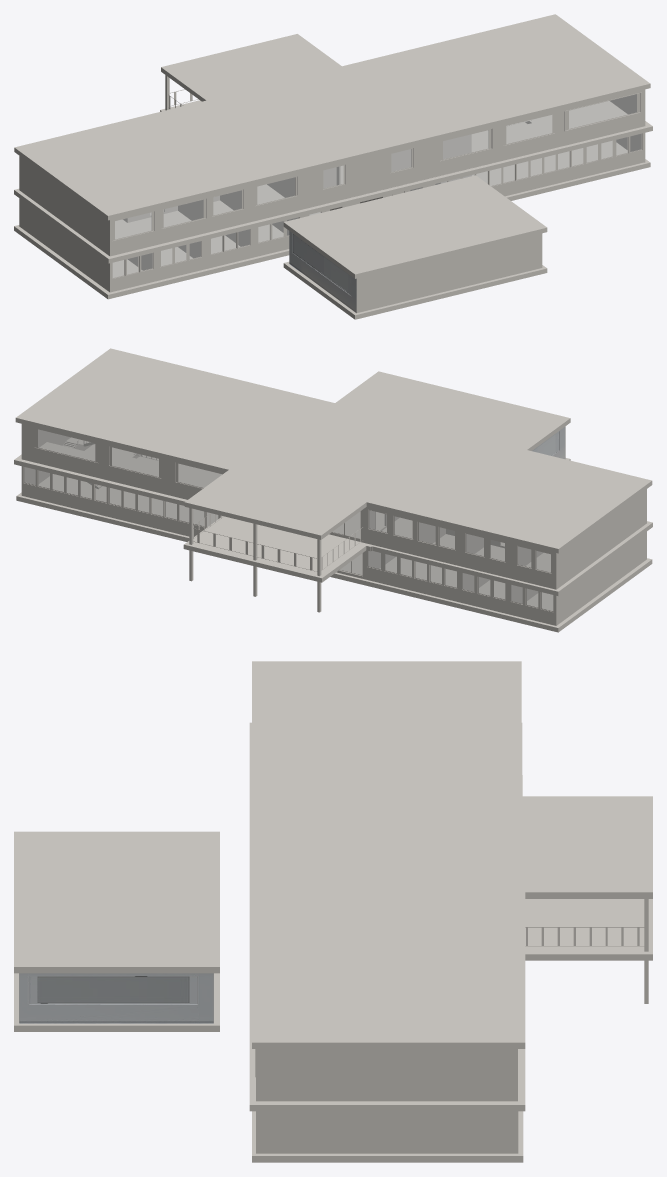
The model's file is auditorium_walk.glb.
3 renders of one model, top to bottom at view 1: azimuth 30°, elevation 25°; view 2: azimuth 150°, elevation 25°; view 3: azimuth 270°, elevation 25°, orthographic. The views are drawn at different scales.
Visible parts, largest first — view 1: BEYOND_L2_SLAB, BEYOND_L1_WALL, BEYOND_L0_WALL, UPPER_in_zone, BEYOND_L1_SLAB, BEYOND_L0_SLAB, BEYOND_L1_GLASS, BEYOND_L0_GLASS, BEYOND_L1_FRAME, BEYOND_L0_FRAME, BEYOND_L1_OTHER, BAKE_furn_b (+2 smaller); view 2: BEYOND_L2_SLAB, BEYOND_L1_WALL, BEYOND_L1_SLAB, BEYOND_L0_WALL, BEYOND_L0_SLAB, UPPER_in_zone, BEYOND_L1_GLASS, BEYOND_L0_GLASS, BEYOND_L1_FRAME, BEYOND_L0_FRAME, BEYOND_L1_OTHER, BEYOND_L1_STAIR (+3 smaller); view 3: BEYOND_L2_SLAB, UPPER_in_zone, BEYOND_L1_WALL, BEYOND_L1_SLAB, BEYOND_L0_WALL, BEYOND_L0_SLAB, BAKE_furn_b, GLASS_zone, BAKE_wall_north, BAKE_wall_south.
Part boxes in pixels (x1=…): BEYOND_L2_SLAB: x1=14, y1=14, x2=650, y2=278; BEYOND_L1_WALL: x1=19, y1=89, x2=645, y2=256; BEYOND_L0_WALL: x1=19, y1=133, x2=645, y2=312; UPPER_in_zone: x1=289, y1=177, x2=541, y2=272; BEYOND_L1_SLAB: x1=14, y1=100, x2=652, y2=263; BEYOND_L0_SLAB: x1=14, y1=122, x2=650, y2=319; BEYOND_L1_GLASS: x1=115, y1=94, x2=636, y2=238; BEYOND_L0_GLASS: x1=113, y1=134, x2=641, y2=277; BEYOND_L1_FRAME: x1=113, y1=93, x2=640, y2=240; BEYOND_L0_FRAME: x1=112, y1=134, x2=642, y2=278; BEYOND_L1_OTHER: x1=112, y1=89, x2=641, y2=240; BAKE_furn_b: x1=293, y1=234, x2=348, y2=291; BEYOND_L2_SLAB: x1=15, y1=348, x2=652, y2=553; BEYOND_L1_WALL: x1=21, y1=424, x2=646, y2=589; BEYOND_L1_SLAB: x1=14, y1=442, x2=652, y2=596; BEYOND_L0_WALL: x1=21, y1=426, x2=646, y2=625; BEYOND_L0_SLAB: x1=16, y1=444, x2=652, y2=632; UPPER_in_zone: x1=338, y1=373, x2=565, y2=448; BEYOND_L1_GLASS: x1=38, y1=429, x2=550, y2=572; BEYOND_L0_GLASS: x1=24, y1=467, x2=552, y2=610; BEYOND_L1_FRAME: x1=34, y1=428, x2=551, y2=573; BEYOND_L0_FRAME: x1=23, y1=467, x2=553, y2=611; BEYOND_L1_OTHER: x1=34, y1=428, x2=551, y2=573; BEYOND_L1_STAIR: x1=136, y1=454, x2=500, y2=570; BEYOND_L2_SLAB: x1=14, y1=661, x2=652, y2=1048; UPPER_in_zone: x1=19, y1=834, x2=213, y2=964; BEYOND_L1_WALL: x1=256, y1=1049, x2=517, y2=1101; BEYOND_L1_SLAB: x1=249, y1=722, x2=652, y2=1111; BEYOND_L0_WALL: x1=19, y1=973, x2=518, y2=1153; BEYOND_L0_SLAB: x1=14, y1=775, x2=523, y2=1162; BAKE_furn_b: x1=37, y1=976, x2=189, y2=1002; GLASS_zone: x1=38, y1=977, x2=188, y2=1002; BAKE_wall_north: x1=29, y1=973, x2=213, y2=1023; BAKE_wall_south: x1=19, y1=973, x2=197, y2=1023.
Size of the model in its own units: 38.22 by 5.6 by 27.
Materials: 11 (8 with a texture image).
